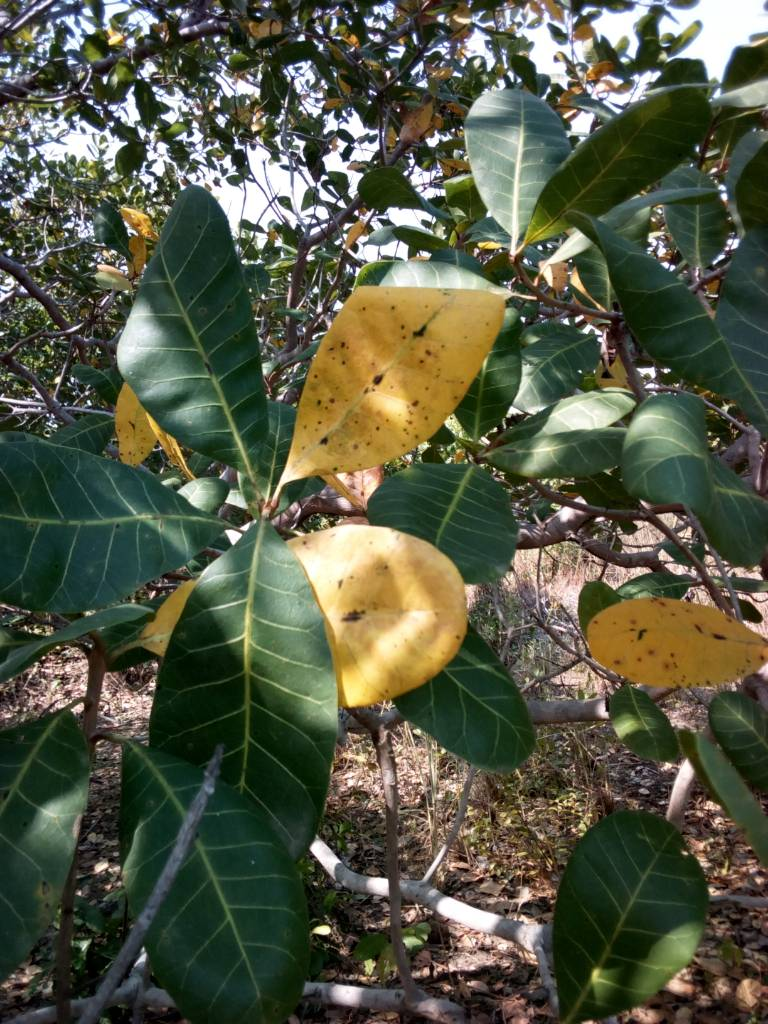Bactériose: (121, 186, 272, 482), (280, 285, 504, 478), (585, 597, 760, 686)
